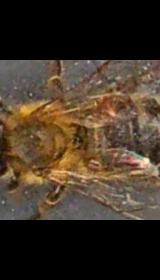varroa_mite: (98, 101, 121, 119)
